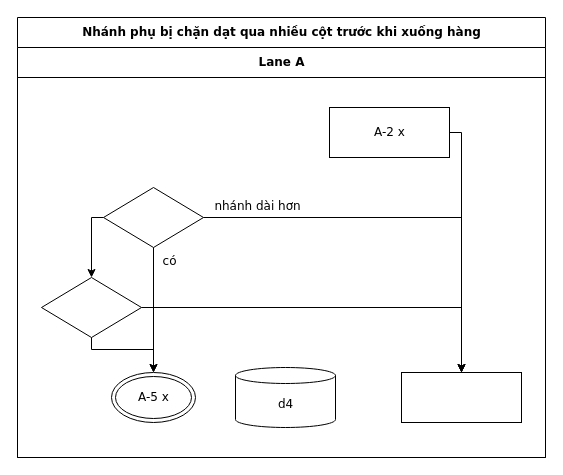
Some shapes in this 563 by 475 pixel diagram are drawn without their labels. Each missing label, with the box of its shape:
A-3 x: (102, 186, 204, 248)
A-4 x: (40, 276, 142, 338)
A-6 x: (400, 372, 522, 422)
